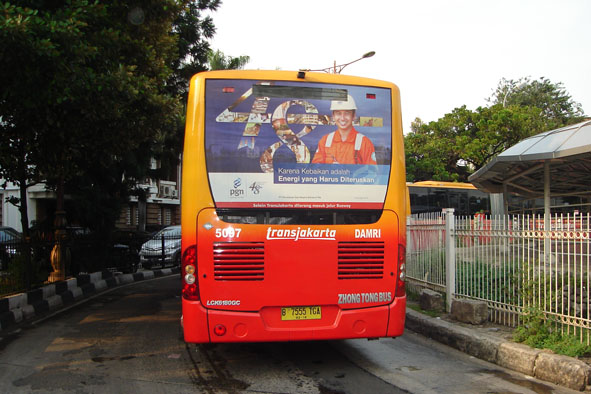plate: (281, 304, 319, 320)
